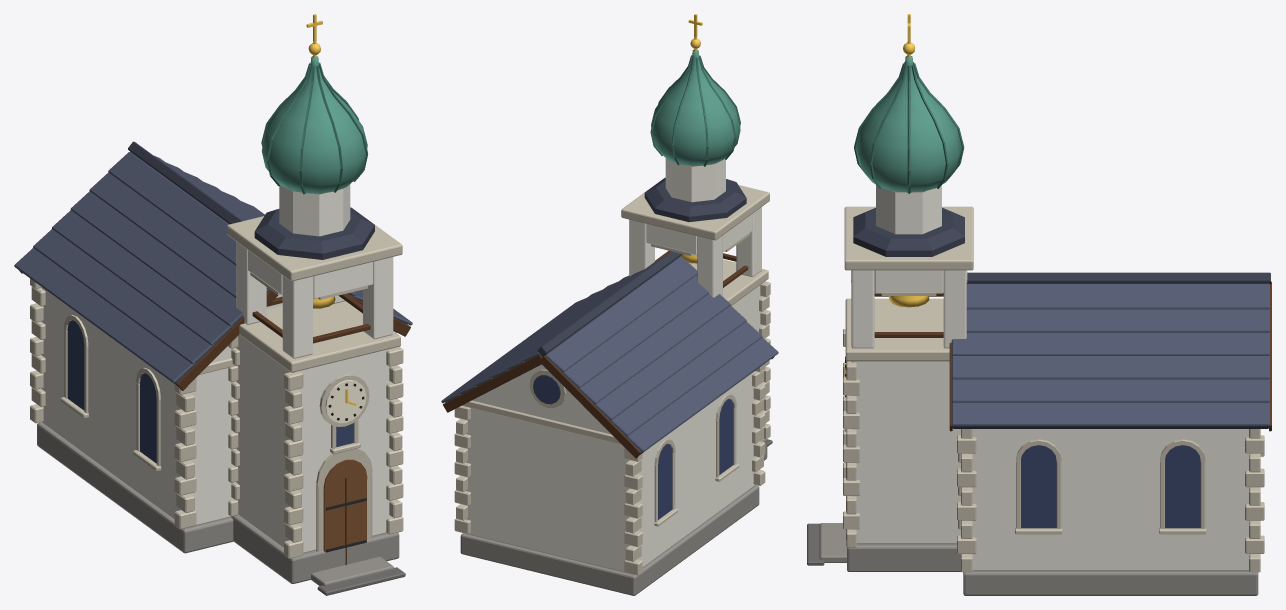
The model's file is church.glb.
The picture shows the model from 3 angles, left to right: view 1: azimuth 30°, elevation 25°; view 2: azimuth 150°, elevation 25°; view 3: azimuth 270°, elevation 25°; orthographic projection. The views are drawn at different scales.
Visible parts, largest first — view 1: Church; view 2: Church; view 3: Church.
Boxes of the visible parts, x1,y1,x2,y2 form: Church: [14, 14, 412, 595]; Church: [441, 14, 778, 595]; Church: [807, 14, 1271, 595].
Bounding box in the file's own units: 4.79 × 10.19 × 8.07.
